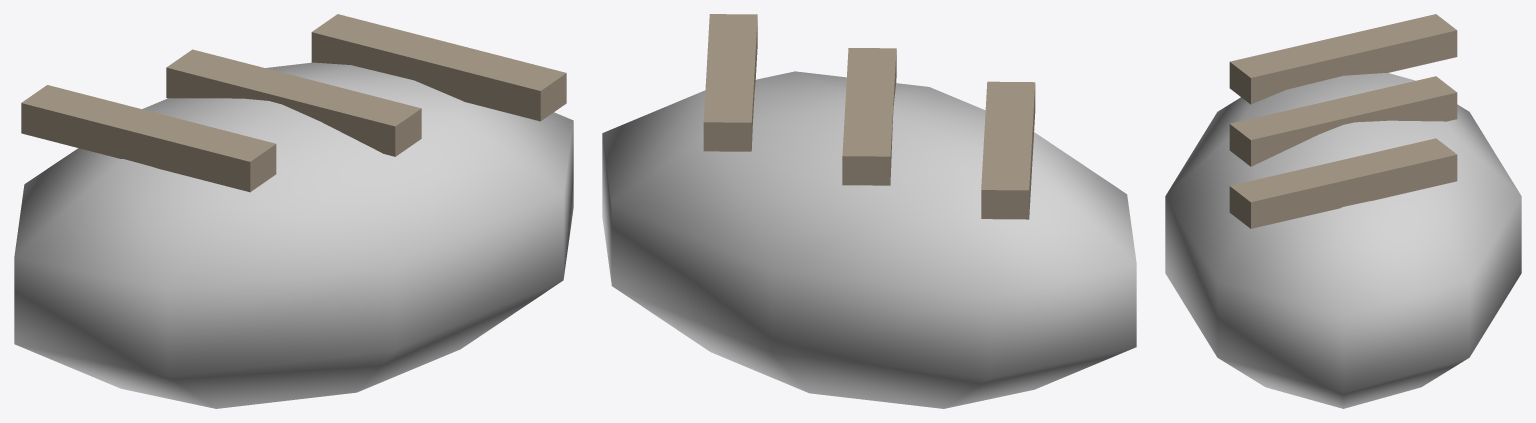
Rendered from crf_loaf.glb.
3 renders of one model, left to right at view 1: azimuth 30°, elevation 25°; view 2: azimuth 150°, elevation 25°; view 3: azimuth 270°, elevation 25°, orthographic. The views are drawn at different scales.
Visible parts, largest first — view 1: crf_loaf; view 2: crf_loaf; view 3: crf_loaf.
Boxes of the visible parts, x1,y1,x2,y2 form: crf_loaf: [14, 14, 573, 408]; crf_loaf: [602, 14, 1136, 408]; crf_loaf: [1165, 14, 1521, 408].
Bounding box in the file's own units: 0.077 × 0.0376 × 0.0485.
